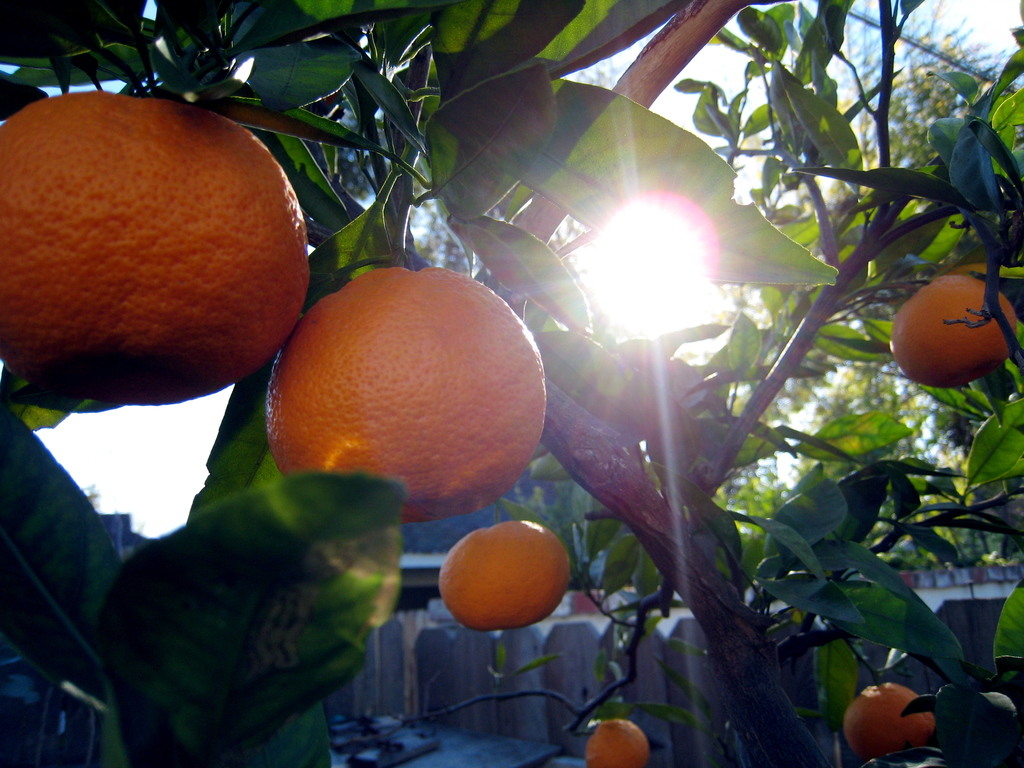Ripe: (0, 93, 310, 381), (266, 266, 525, 524), (435, 514, 570, 627), (895, 270, 1022, 387), (446, 498, 545, 596), (851, 679, 932, 766), (599, 712, 647, 764)
